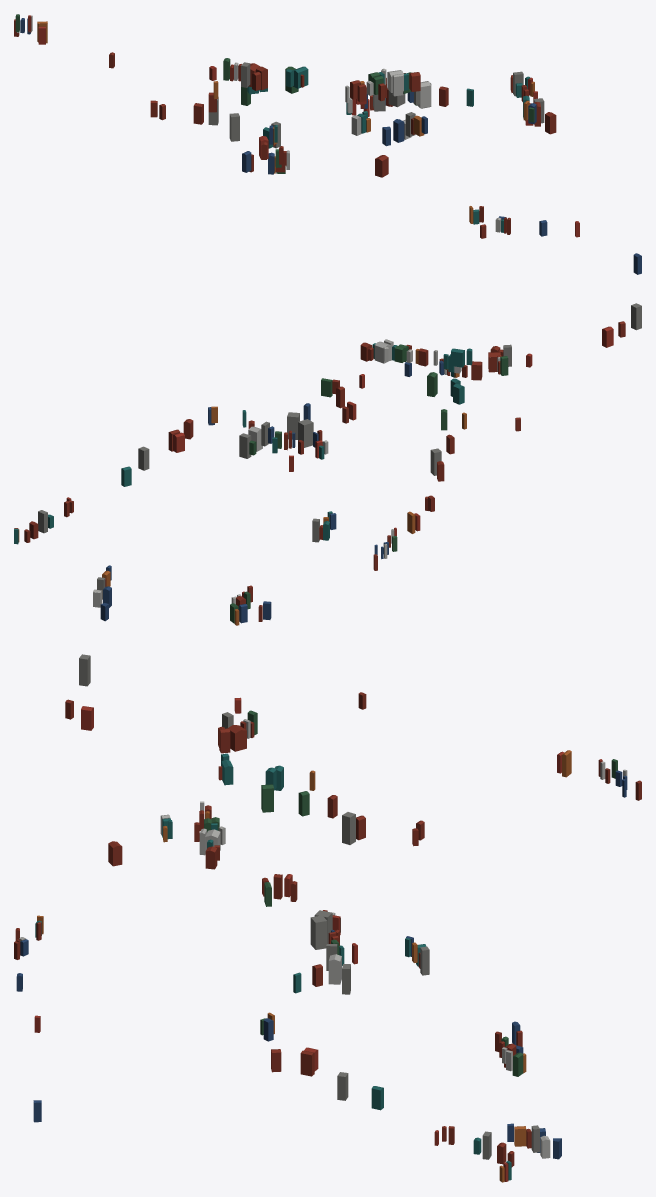
Rendered from near-16-54736-29742.23246812.glb.
The picture shows the model from 3 angles, top to bottom: view 1: azimuth 30°, elevation 25°; view 2: azimuth 150°, elevation 25°; view 3: azimuth 270°, elevation 25°; orthographic projection. The views are drawn at different scales.
Bounding box in the file's own units: 567 × 302 × 566.
